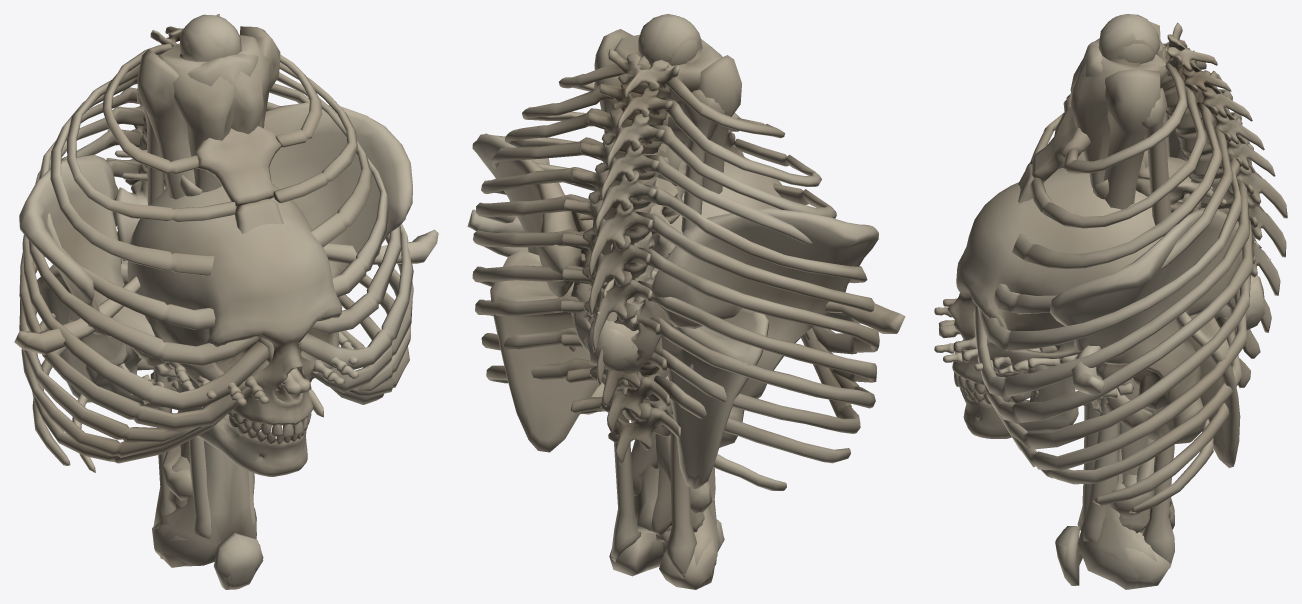
Rendered from skeleton.glb.
3 views of the same model, side by side, from view 1: azimuth 30°, elevation 25°; view 2: azimuth 150°, elevation 25°; view 3: azimuth 270°, elevation 25° (orthographic). The views are drawn at different scales.
Visible parts, largest first — view 1: trunk.core, head.head, legs.pelvis, legs.thighL, legs.shinL, legs.thighR, primary.collar, legs.shinR, secondary.forearm, secondary.collar, legs.footL, legs.footR (+1 smaller); view 2: trunk.core, legs.pelvis, secondary.collar, primary.collar, legs.thighL, legs.shinL, legs.shinR, legs.thighR, head.head, trunk.waist, legs.footL, secondary.upperArm (+2 smaller); view 3: trunk.core, head.head, legs.pelvis, legs.thighR, legs.shinR, secondary.collar, legs.thighL, legs.footR, primary.forearm, legs.shinL, trunk.waist, primary.upperArm (+1 smaller).
Part boxes in pixels (left/top/right/bottom): trunk.core: left=19, top=14, right=413, bottom=472; head.head: left=127, top=183, right=342, bottom=476; legs.pelvis: left=19, top=102, right=412, bottom=408; legs.thighL: left=137, top=14, right=263, bottom=589; legs.shinL: left=136, top=45, right=258, bottom=525; legs.thighR: left=152, top=15, right=280, bottom=588; primary.collar: left=14, top=259, right=140, bottom=402; legs.shinR: left=172, top=35, right=270, bottom=134; secondary.forearm: left=180, top=175, right=211, bottom=539; secondary.collar: left=323, top=229, right=438, bottom=264; legs.footL: left=168, top=362, right=301, bottom=405; legs.footR: left=290, top=331, right=358, bottom=393; trunk.core: left=472, top=49, right=879, bottom=490; legs.pelvis: left=472, top=133, right=878, bottom=447; secondary.collar: left=467, top=209, right=598, bottom=452; primary.collar: left=667, top=301, right=905, bottom=488; legs.thighL: left=609, top=14, right=741, bottom=584; legs.shinL: left=637, top=44, right=727, bottom=578; legs.shinR: left=594, top=34, right=716, bottom=561; legs.thighR: left=594, top=14, right=722, bottom=589; head.head: left=652, top=157, right=781, bottom=356; trunk.waist: left=577, top=177, right=683, bottom=325; legs.footL: left=583, top=271, right=656, bottom=371; secondary.upperArm: left=655, top=120, right=712, bottom=513; trunk.core: left=973, top=22, right=1287, bottom=513; head.head: left=947, top=167, right=1183, bottom=438; legs.pelvis: left=1050, top=115, right=1254, bottom=443; legs.thighR: left=1055, top=14, right=1160, bottom=586; legs.shinR: left=1070, top=38, right=1174, bottom=568; secondary.collar: left=1071, top=311, right=1240, bottom=467; legs.thighL: left=1055, top=14, right=1171, bottom=589; legs.footR: left=934, top=274, right=1264, bottom=375; primary.forearm: left=1082, top=179, right=1144, bottom=542; legs.shinL: left=1070, top=40, right=1174, bottom=532; trunk.waist: left=1146, top=156, right=1270, bottom=265; primary.upperArm: left=1109, top=438, right=1154, bottom=518.
Bounding box in the file's own units: 0.3488 × 0.4374 × 0.248.
